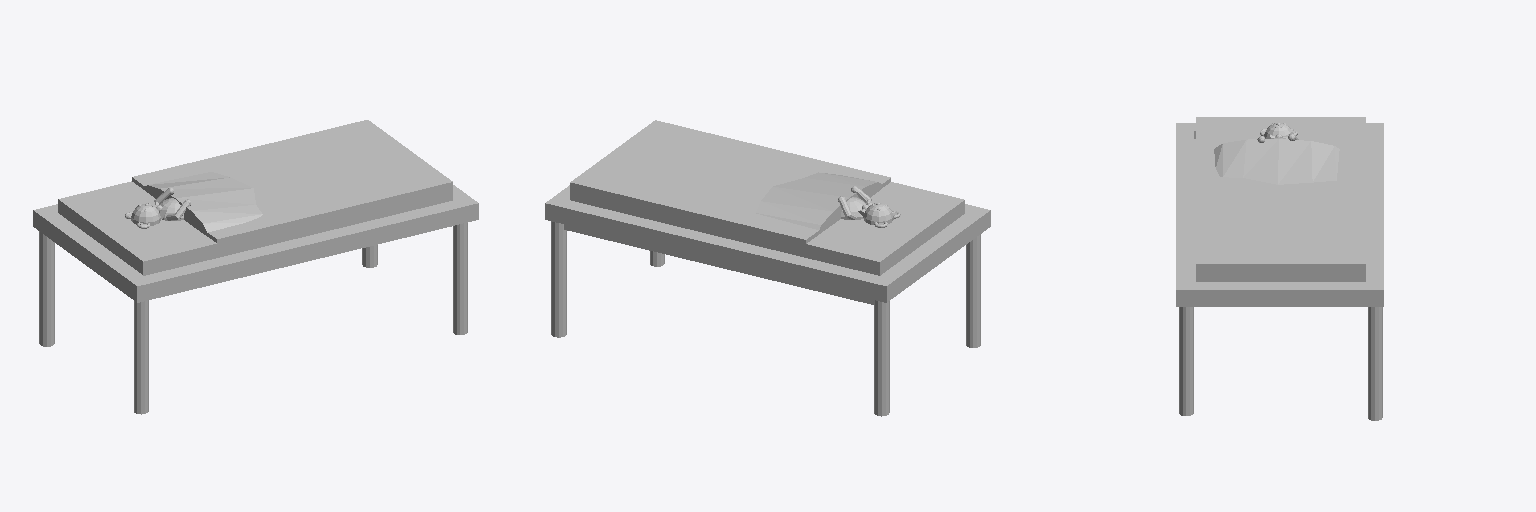
Rendered from Bed.obj.
3 views of the same model, side by side, from view 1: azimuth 30°, elevation 25°; view 2: azimuth 150°, elevation 25°; view 3: azimuth 270°, elevation 25° (orthographic).
Parts seen in each view (by area): view 1: group[number redacted], group[number redacted], group[number redacted], group[number redacted], group[number redacted], group[number redacted], group[number redacted], group[number redacted], group[number redacted]; view 2: group[number redacted], group[number redacted], group[number redacted], group[number redacted], group[number redacted], group[number redacted], group[number redacted], group[number redacted], group[number redacted], group[number redacted]; view 3: group[number redacted], group[number redacted], group[number redacted], group[number redacted], group[number redacted], group[number redacted], group[number redacted], group[number redacted].
Part boxes in pixels (x1,y1,x2,y2): group[number redacted]: (132,120,452,257); group[number redacted]: (58,181,216,275); group[number redacted]: (163,197,477,290); group[number redacted]: (144,172,262,234); group[number redacted]: (33,206,142,301); group[number redacted]: (39,231,54,346); group[number redacted]: (134,300,148,414); group[number redacted]: (453,223,467,334); group[number redacted]: (129,271,187,302); group[number redacted]: (570,120,890,257); group[number redacted]: (561,200,895,302); group[number redacted]: (806,182,964,275); group[number redacted]: (756,172,882,234); group[number redacted]: (872,211,989,301); group[number redacted]: (874,300,889,416); group[number redacted]: (551,221,566,337); group[number redacted]: (564,224,873,304); group[number redacted]: (966,234,980,347); group[number redacted]: (545,185,569,222); group[number redacted]: (1196,149,1365,281); group[number redacted]: (1176,282,1383,306); group[number redacted]: (1214,139,1339,184); group[number redacted]: (1196,117,1365,148); group[number redacted]: (1366,123,1383,281); group[number redacted]: (1176,140,1193,306); group[number redacted]: (1368,307,1382,420); group[number redacted]: (1179,307,1193,415).
Size of the model in its own units: 2.59 by 1.21 by 1.37.